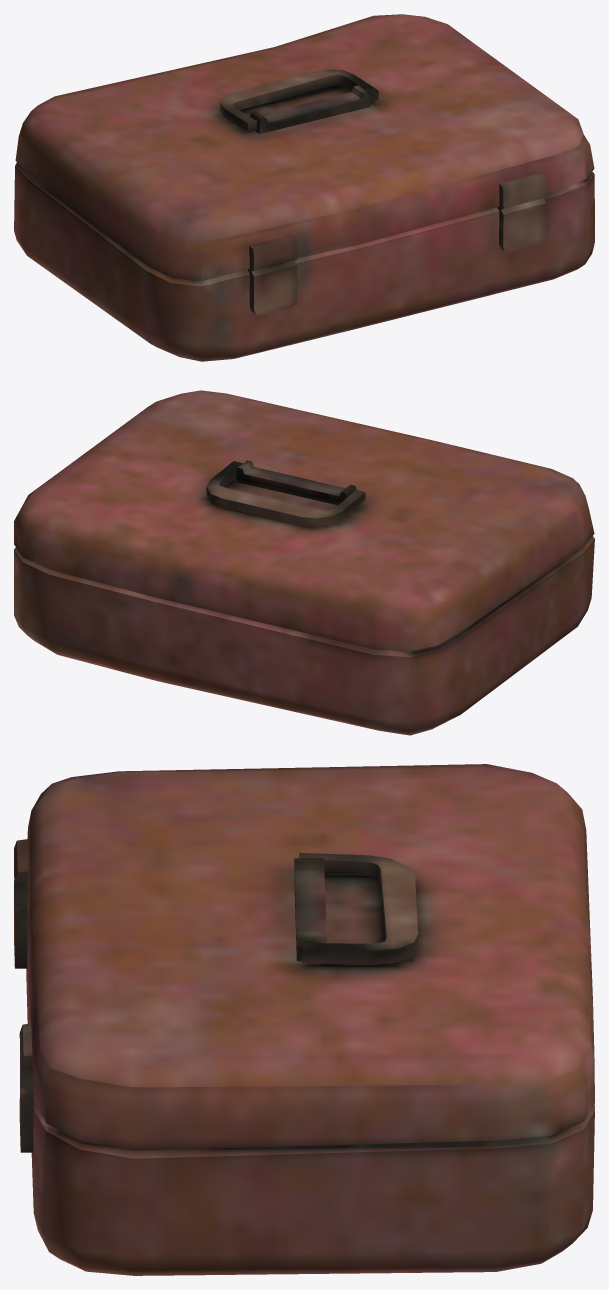
File: MetalBox_T01.FBX
3 views of the same model, one above another, from view 1: azimuth 30°, elevation 25°; view 2: azimuth 150°, elevation 25°; view 3: azimuth 270°, elevation 25° (orthographic). The views are drawn at different scales.
Visible parts, largest first — view 1: MetalBox_T01; view 2: MetalBox_T01; view 3: MetalBox_T01.
Part boxes in pixels (x1=…): MetalBox_T01: x1=14, y1=14, x2=594, y2=361; MetalBox_T01: x1=14, y1=390, x2=594, y2=735; MetalBox_T01: x1=14, y1=764, x2=594, y2=1275.
Bounding box in the file's own units: 29.21 × 9.84 × 22.16.
